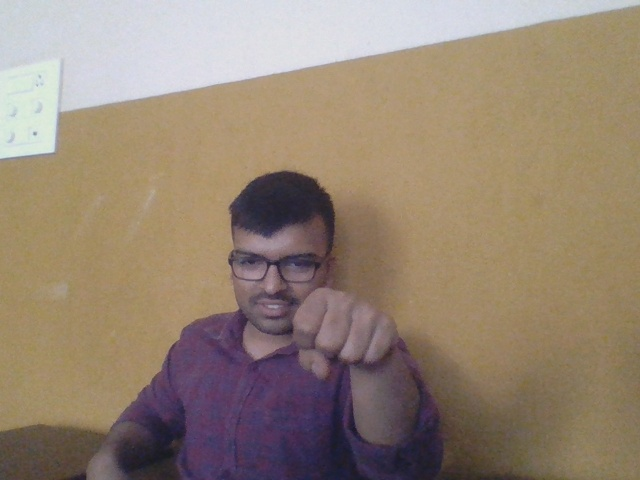Yes: (286, 275, 404, 379)
